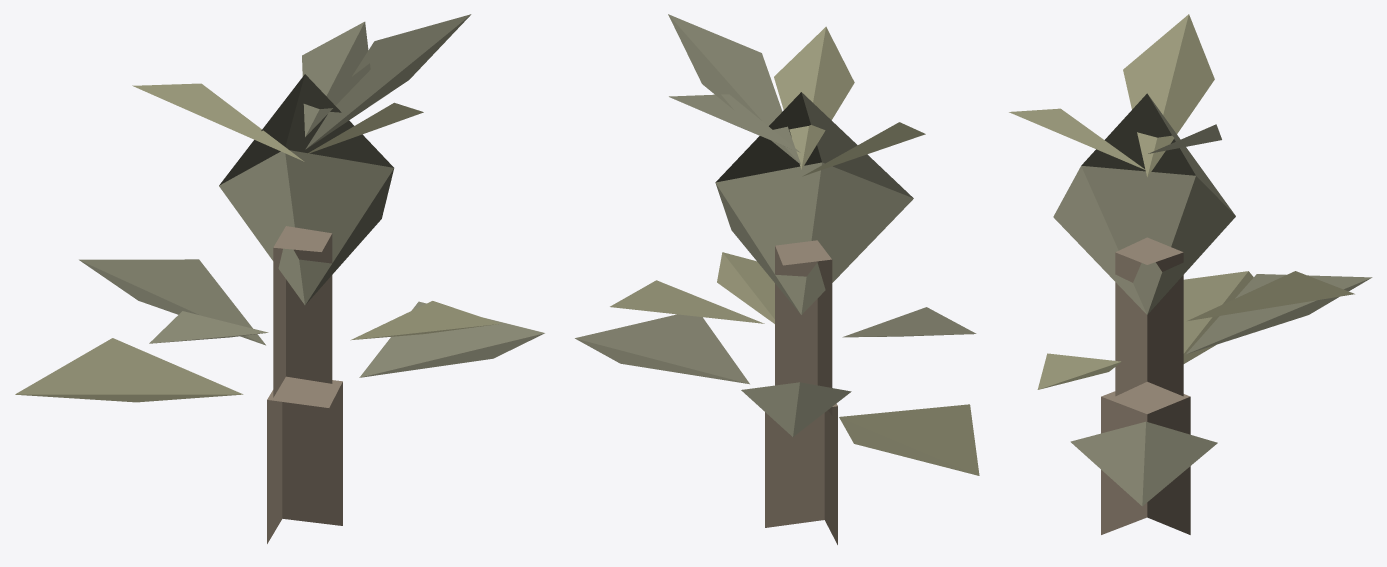
File: guan.zhen@seedling__winter.glb
The picture shows the model from 3 angles, left to right: view 1: azimuth 30°, elevation 25°; view 2: azimuth 150°, elevation 25°; view 3: azimuth 270°, elevation 25°; orthographic projection. The views are drawn at different scales.
Visible parts, largest first — view 1: guan.zhen@seedling__winter; view 2: guan.zhen@seedling__winter; view 3: guan.zhen@seedling__winter.
Part boxes in pixels (x1,y1,x2,y2): guan.zhen@seedling__winter: (15,14,544,543); guan.zhen@seedling__winter: (575,14,979,544); guan.zhen@seedling__winter: (1009,14,1372,534).
Size of the model in its own units: 0.1933 by 0.1921 by 0.1339.
